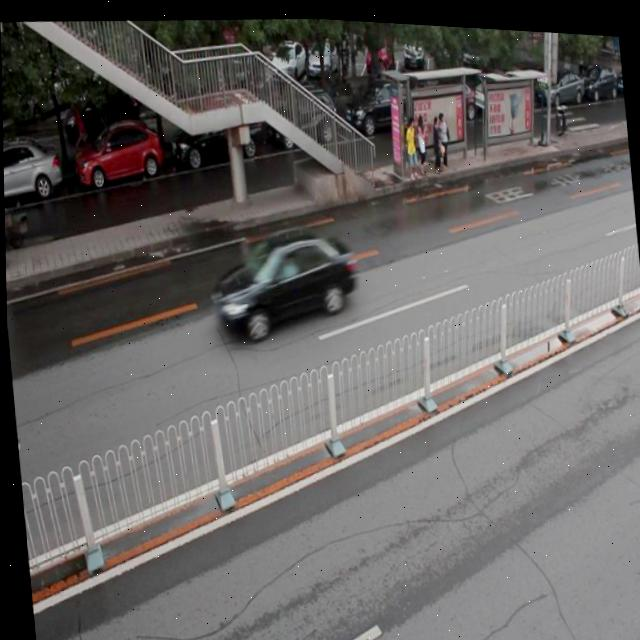car: (204, 217, 361, 343), (166, 84, 265, 168), (70, 117, 164, 186), (337, 65, 420, 137), (266, 83, 338, 148), (2, 137, 60, 206)
